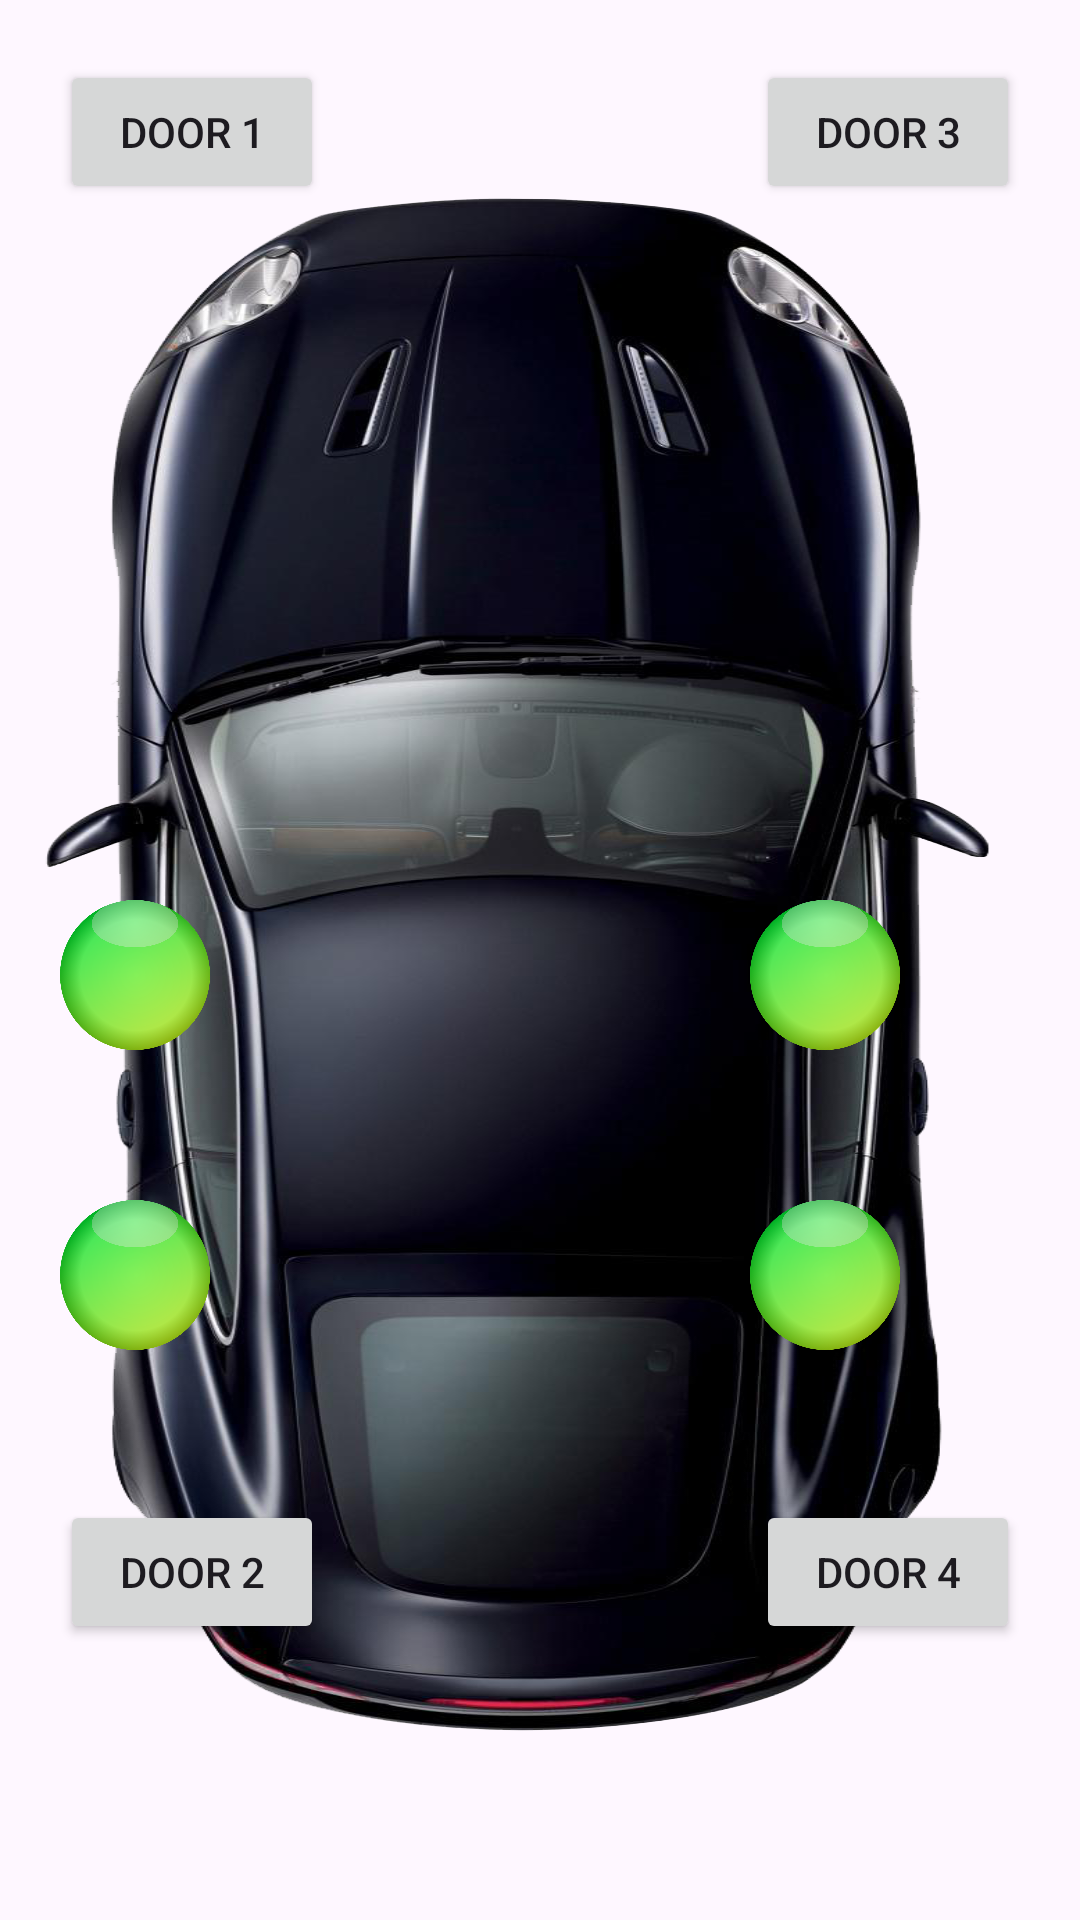

Where to tap for icons on this 1080px×1920px app screen, as (x,y):
circle: (135,975), (825,975), (135,1275), (825,1275)
